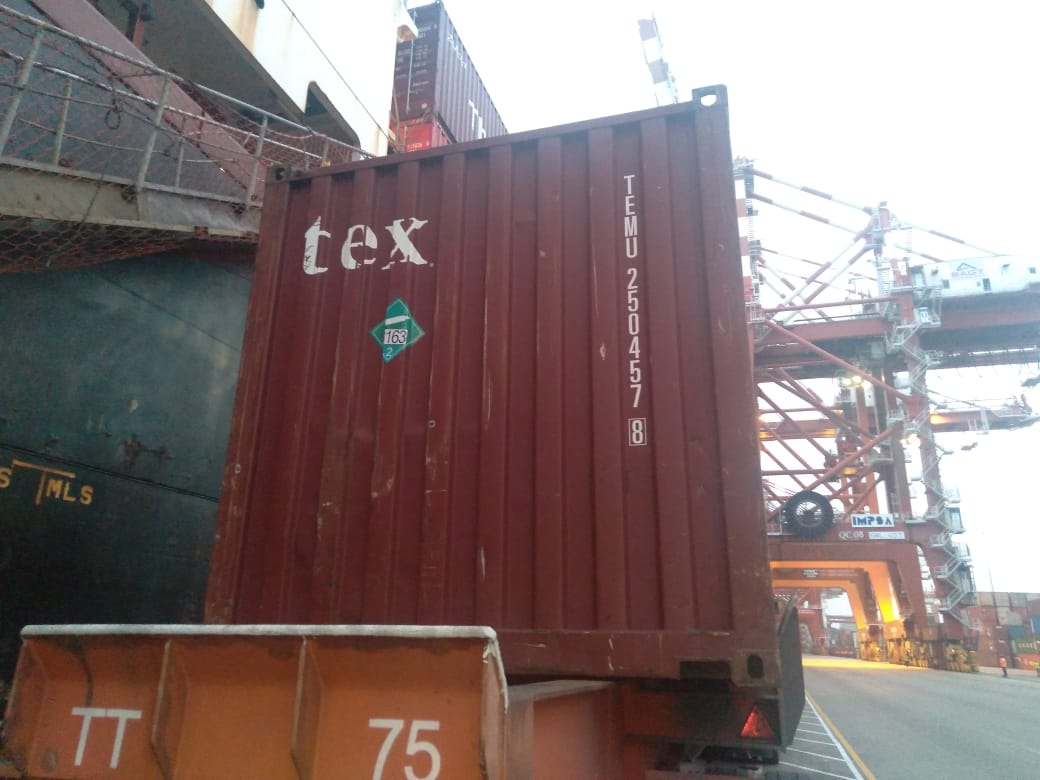moderate: (304, 353, 513, 516)
